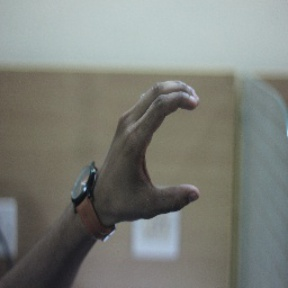C: (100, 72, 216, 225)
